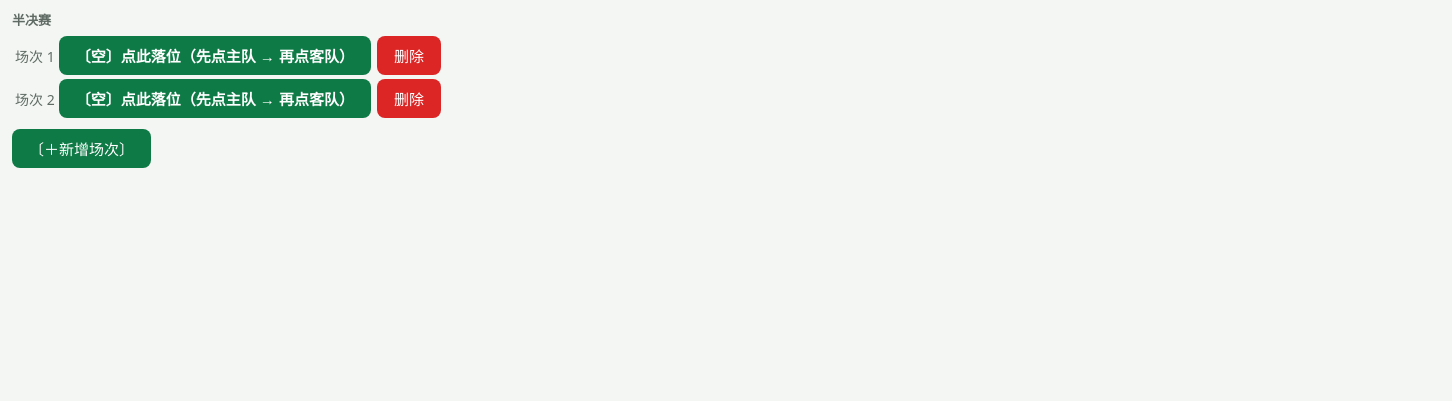
Test case: 淘汰赛草稿与一键铺位 › 刷新后从 sessionStorage 恢复草稿；放弃恢复原状
Click the 1st button "〔空〕点此落位（先点主队 → 再点客队）". click: (215, 56)
box: x1=59 y1=36 x2=371 y2=75
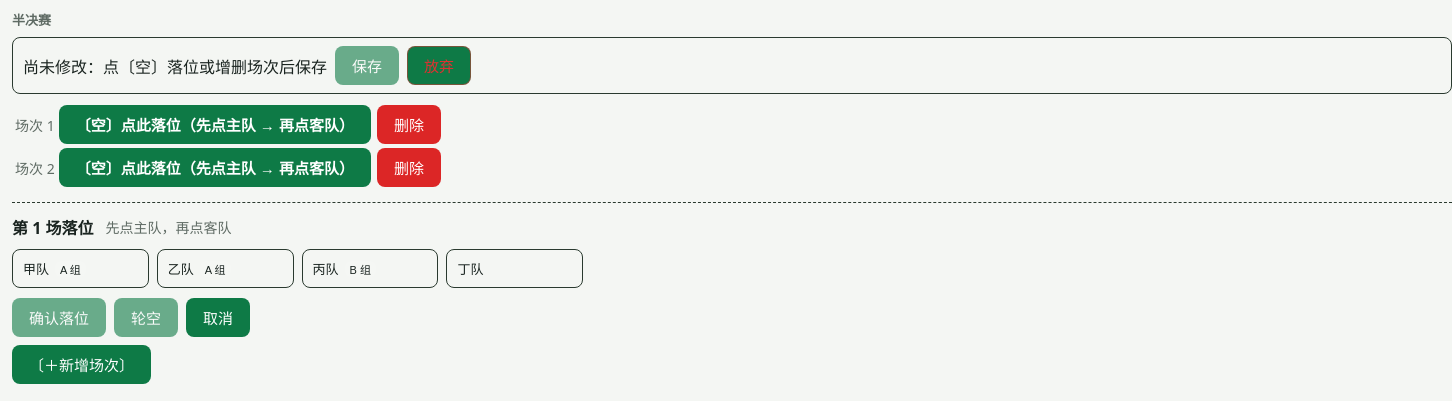
Click the button "甲队 A 组". click: (80, 268)
box: x1=12 y1=249 x2=149 y2=288
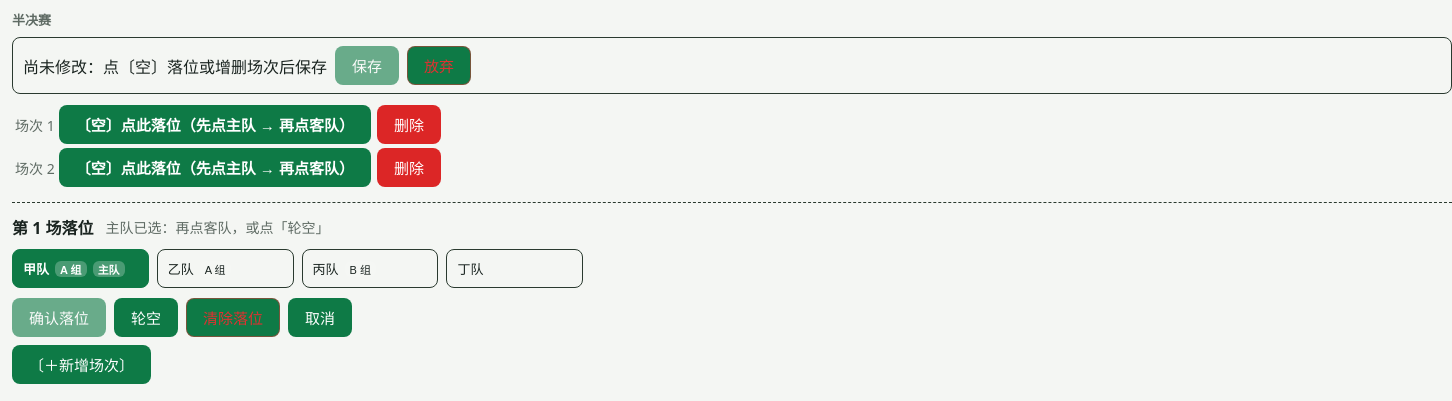
Click the button "乙队 A 组". click: (225, 268)
box: x1=157 y1=249 x2=294 y2=288
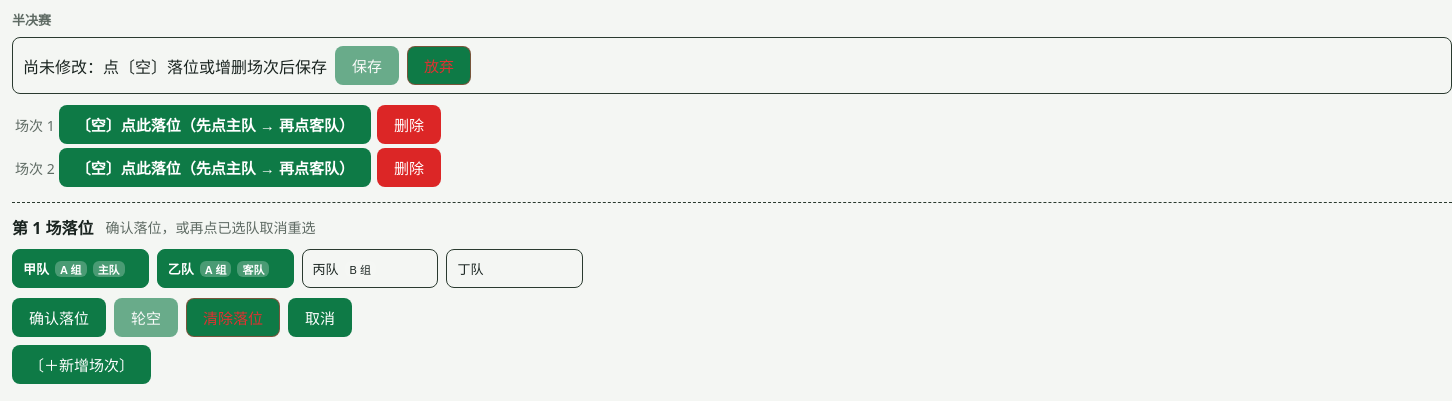
Click the button "确认落位". click: (59, 318)
box: x1=12 y1=298 x2=106 y2=337
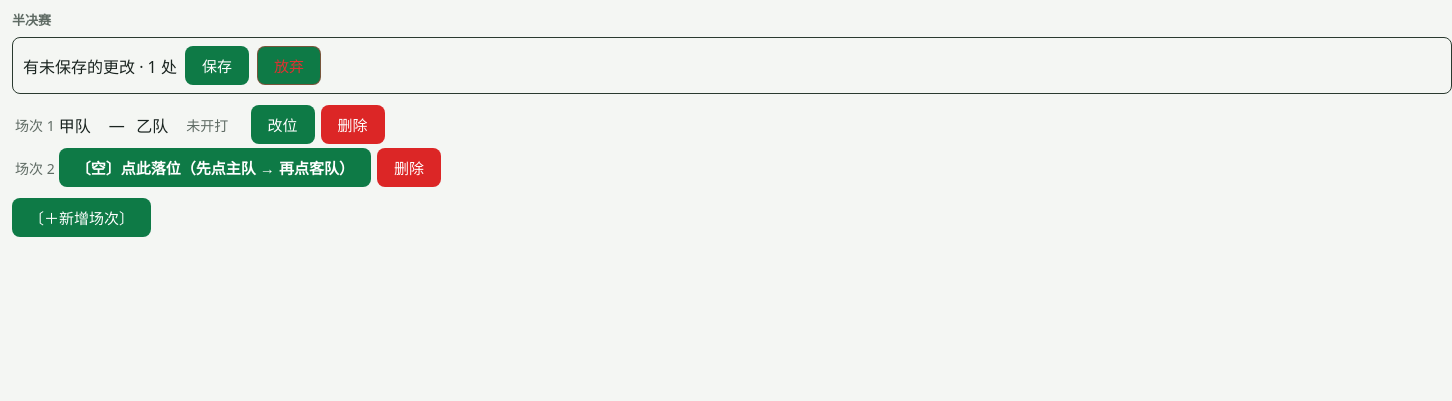
Check: the row "场次 1 甲队 — 乙队 未开打 改位 删除" is shown, box x1=14 y1=104 x2=442 y2=145
Click the button "放弃". click: (289, 66)
box: x1=257 y1=46 x2=321 y2=85
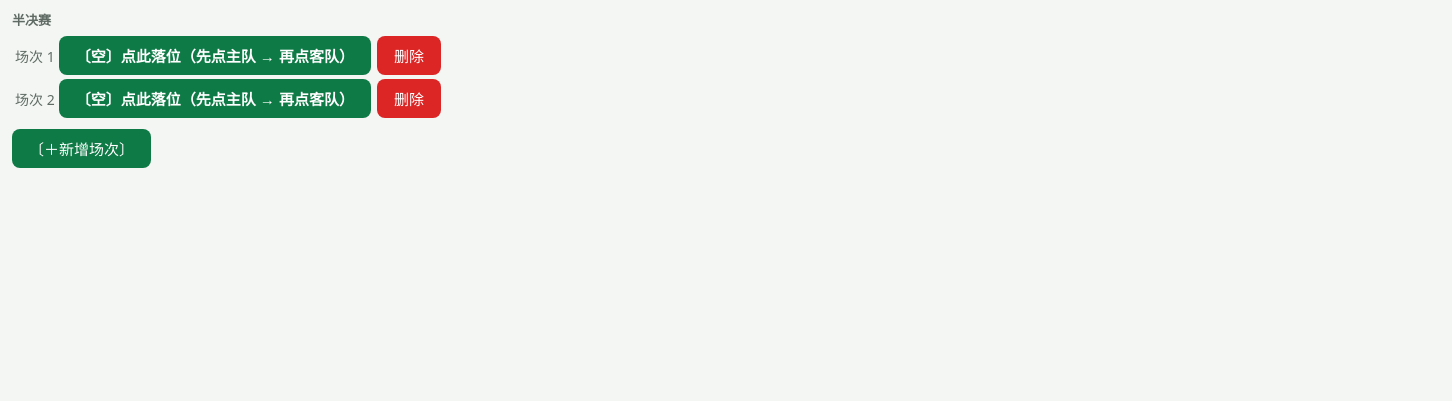
Check: the row "场次 1 〔空〕点此落位（先点主队 → 再点客队） 删除" is shown, box x1=14 y1=35 x2=442 y2=76
